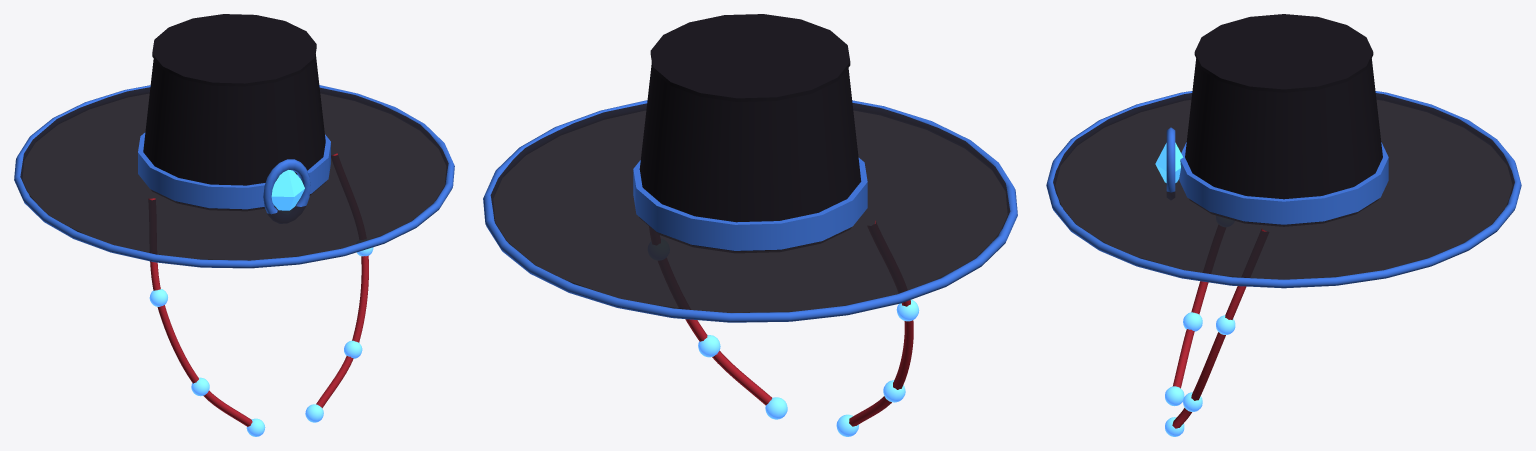
Rendered from hat_eqko1.glb.
3 views of the same model, side by side, from view 1: azimuth 30°, elevation 25°; view 2: azimuth 150°, elevation 25°; view 3: azimuth 270°, elevation 25° (orthographic). The views are drawn at different scales.
Size of the model in its own units: 3.78 by 3.24 by 3.78.
